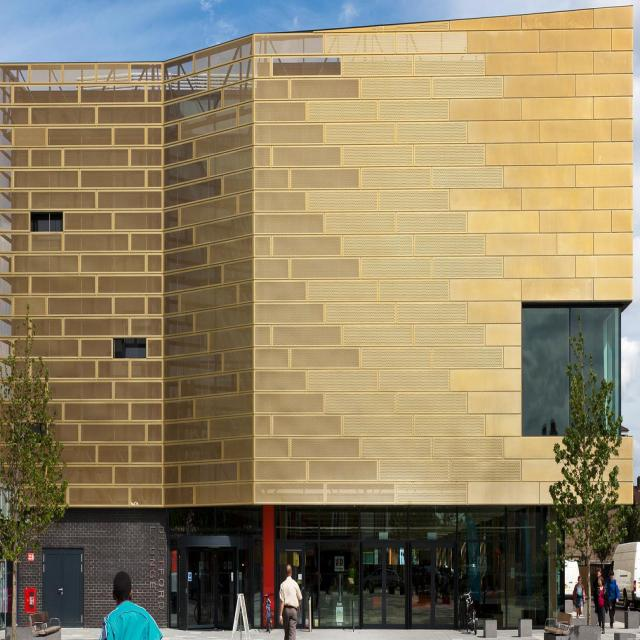door: (358, 541, 458, 627), (40, 548, 83, 626), (274, 542, 304, 626)
plant: (551, 326, 630, 568), (0, 307, 71, 562)
wall: (0, 5, 634, 630)
windows: (275, 516, 551, 627), (522, 308, 622, 438), (169, 528, 261, 624), (121, 342, 148, 358), (36, 219, 62, 231)
